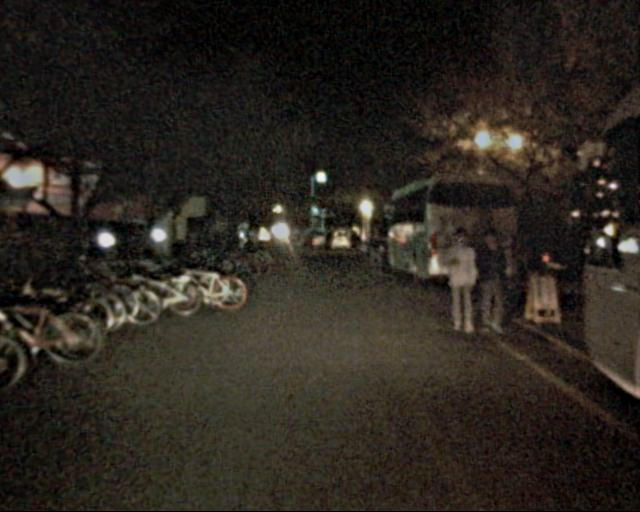person: (467, 227, 511, 335), (438, 232, 481, 338), (361, 224, 386, 285), (245, 229, 259, 264)
